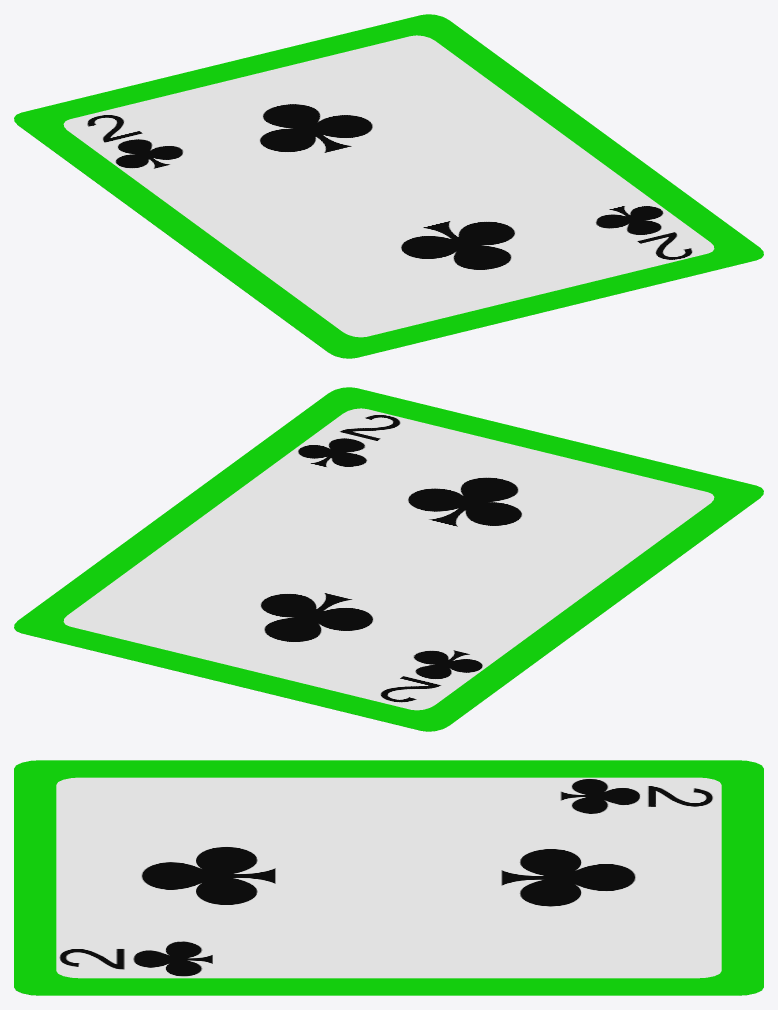
Rendered from card.dae.
3 views of the same model, one above another, from view 1: azimuth 30°, elevation 25°; view 2: azimuth 150°, elevation 25°; view 3: azimuth 270°, elevation 25° (orthographic). The views are drawn at different scales.
Visible parts, largest first — view 1: Card.002; view 2: Card.002; view 3: Card.002.
Part boxes in pixels (<box>): Card.002: <box>14,14,763,358</box>; Card.002: <box>14,387,763,731</box>; Card.002: <box>14,760,763,995</box>.
Bounding box in the file's own units: 8.8 × 11.84 × 0.00282.
Materials: 3 (2 with a texture image).
